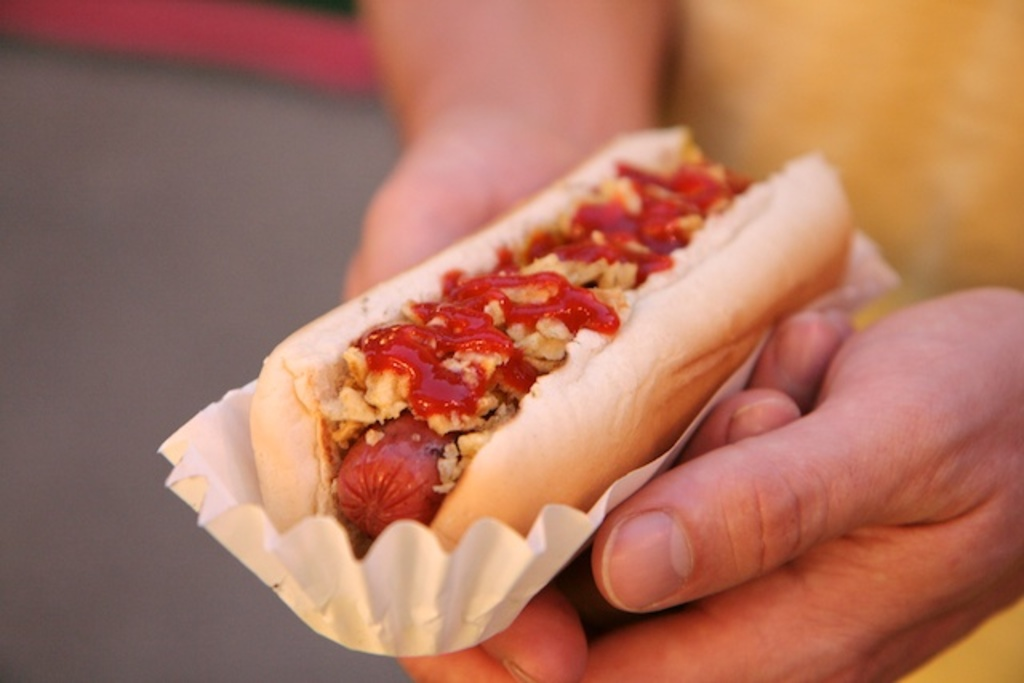hot_dog: (245, 118, 862, 549)
